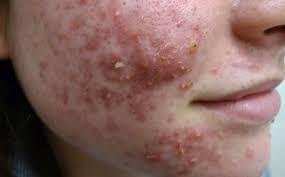fore: (29, 3, 48, 20), (132, 107, 146, 127), (61, 90, 74, 109), (80, 53, 96, 68), (145, 151, 159, 167), (134, 85, 148, 101), (110, 59, 127, 72), (54, 30, 71, 43), (68, 15, 82, 30), (183, 155, 199, 168), (100, 119, 114, 133), (67, 69, 81, 83), (212, 128, 227, 141), (109, 49, 125, 61), (94, 4, 108, 17), (94, 29, 109, 41), (38, 55, 50, 70), (242, 144, 254, 159), (120, 146, 131, 162), (206, 63, 222, 74), (170, 125, 183, 138), (80, 70, 94, 82), (189, 38, 203, 50), (165, 107, 177, 121), (172, 16, 186, 28), (121, 24, 132, 39), (175, 79, 186, 94), (140, 136, 151, 151), (49, 76, 58, 94), (67, 45, 83, 55), (82, 37, 96, 48), (176, 64, 190, 75), (79, 90, 90, 103), (150, 124, 163, 135), (110, 18, 121, 31), (144, 99, 154, 113), (50, 46, 61, 58), (131, 33, 144, 43), (212, 147, 222, 160), (60, 79, 70, 92), (97, 56, 110, 66), (102, 89, 111, 103), (125, 99, 136, 110), (190, 22, 203, 31), (59, 56, 72, 65), (110, 9, 124, 17), (38, 18, 48, 29), (190, 130, 202, 139), (157, 134, 166, 146), (94, 80, 103, 92), (91, 122, 100, 134), (204, 143, 214, 153), (116, 73, 124, 85), (175, 143, 182, 156), (61, 3, 73, 10), (182, 136, 188, 148), (124, 73, 133, 81), (88, 102, 96, 111), (76, 0, 88, 6), (118, 0, 128, 7), (122, 92, 128, 102), (88, 22, 98, 28), (115, 90, 119, 103)
